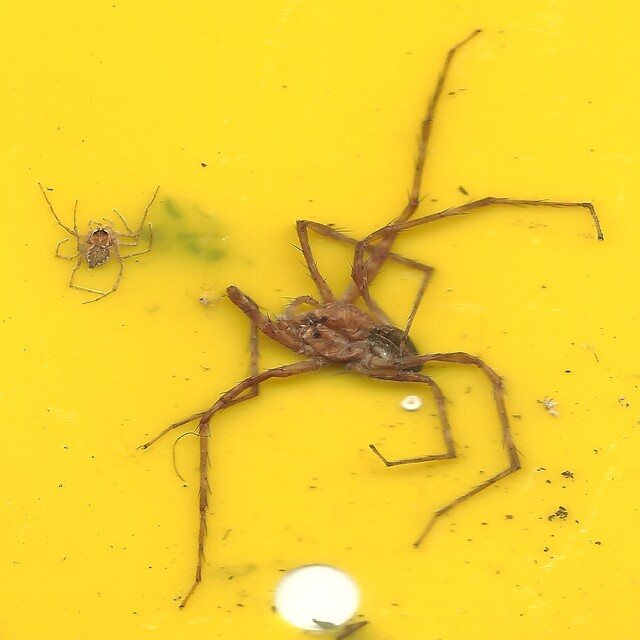Araneae: (136, 28, 604, 612), (36, 183, 160, 306)
